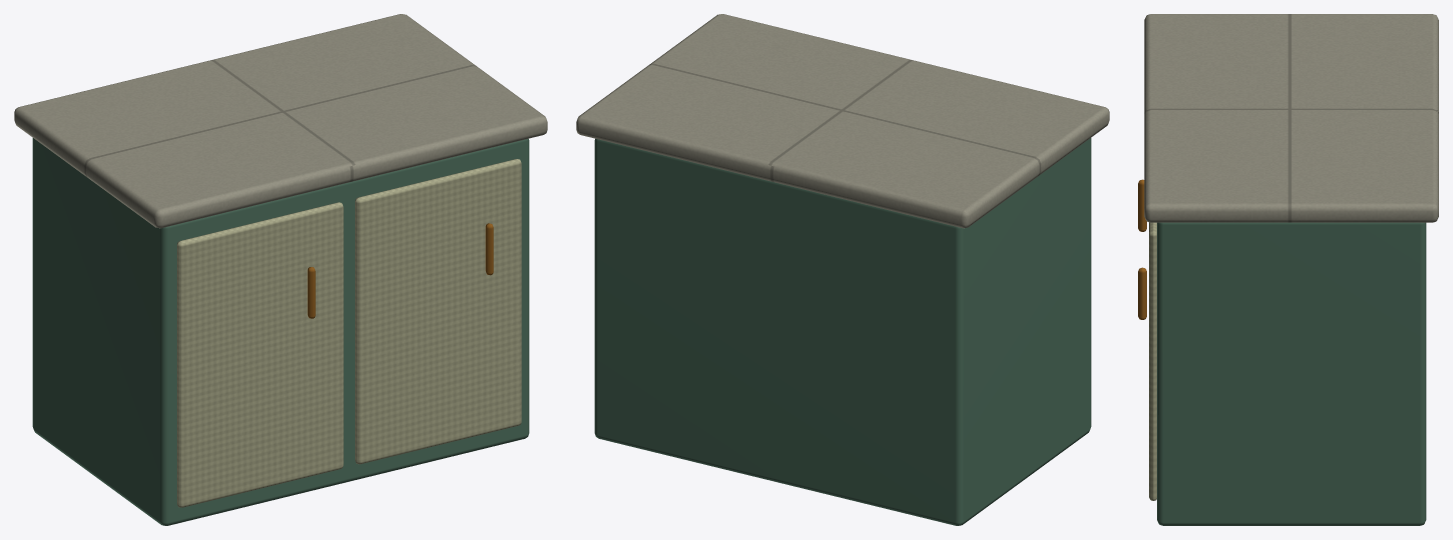
Rendered from counter.glb.
3 views of the same model, side by side, from view 1: azimuth 30°, elevation 25°; view 2: azimuth 150°, elevation 25°; view 3: azimuth 270°, elevation 25° (orthographic).
Visible parts, largest first — view 1: V2_counter_cloth.005, V2_counter_stone.005, V2_counter_sage.005, V2_counter_brass.005; view 2: V2_counter_sage.005, V2_counter_stone.005; view 3: V2_counter_sage.005, V2_counter_stone.005, V2_counter_cloth.005, V2_counter_brass.005.
Boxes of the visible parts, box(x1,y1,x2,y2) form: V2_counter_cloth.005: box(177, 159, 521, 507); V2_counter_stone.005: box(14, 14, 547, 228); V2_counter_sage.005: box(32, 138, 529, 525); V2_counter_brass.005: box(307, 223, 493, 318); V2_counter_sage.005: box(594, 138, 1091, 525); V2_counter_stone.005: box(576, 14, 1109, 228); V2_counter_sage.005: box(1157, 222, 1426, 525); V2_counter_stone.005: box(1144, 14, 1438, 222); V2_counter_cloth.005: box(1149, 222, 1156, 500); V2_counter_brass.005: box(1138, 179, 1146, 319).
Size of the model in its own units: 1.28 by 1.01 by 0.8375.
Materials: 4 (2 with a texture image).
